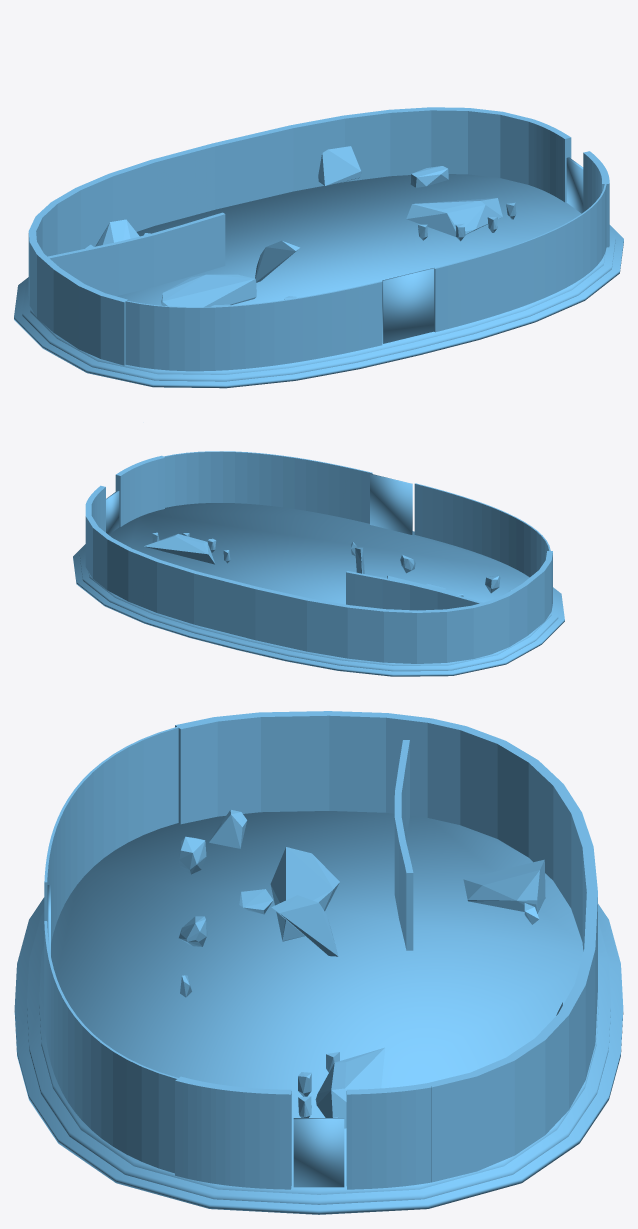
Rendered from Nocturne_PHYS.dae.
3 renders of one model, top to bottom at view 1: azimuth 30°, elevation 25°; view 2: azimuth 150°, elevation 25°; view 3: azimuth 270°, elevation 25°, orthographic. The views are drawn at different scales.
Parts seen in each view (by area): view 1: Nocturne_Floor_PHYS, Nocturne_Wall_N_PHYS, Nocturne_Glass_S_PHYS, Nocturne_Partition_PHYS, Nocturne_Wall_W_PHYS, Nocturne_Wall_E_PHYS, Nocturne_Door_S_PHYS, Nocturne_Sofa_PHYS, Nocturne_Bar_PHYS, Nocturne_Vanity_PHYS, Nocturne_Arc_Lamp_PHYS, Nocturne_Door_E_PHYS (+2 smaller); view 2: Nocturne_Floor_PHYS, Nocturne_Wall_N_PHYS, Nocturne_Glass_S_PHYS, Nocturne_Wall_W_PHYS, Nocturne_Partition_PHYS, Nocturne_Wall_E_PHYS, Nocturne_Door_S_PHYS, Nocturne_Bar_PHYS, Nocturne_Door_E_PHYS; view 3: Nocturne_Floor_PHYS, Nocturne_Wall_N_PHYS, Nocturne_Glass_S_PHYS, Nocturne_Wall_W_PHYS, Nocturne_Wall_E_PHYS, Nocturne_Door_E_PHYS, Nocturne_Sofa_PHYS, Nocturne_Partition_PHYS, Nocturne_Bed_PHYS, Nocturne_Bar_PHYS, Nocturne_Arc_Lamp_PHYS, Nocturne_Fireplace_PHYS (+1 smaller).
Boxes of the visible parts, x1,y1,x2,y2 form: Nocturne_Floor_PHYS: (14, 174, 623, 388); Nocturne_Wall_N_PHYS: (28, 107, 532, 304); Nocturne_Glass_S_PHYS: (125, 184, 606, 371); Nocturne_Partition_PHYS: (48, 212, 225, 295); Nocturne_Wall_W_PHYS: (29, 241, 127, 365); Nocturne_Wall_E_PHYS: (528, 119, 609, 247); Nocturne_Door_S_PHYS: (382, 268, 434, 343); Nocturne_Sofa_PHYS: (161, 274, 256, 306); Nocturne_Bar_PHYS: (406, 198, 502, 236); Nocturne_Vanity_PHYS: (318, 146, 361, 185); Nocturne_Arc_Lamp_PHYS: (255, 240, 299, 282); Nocturne_Door_E_PHYS: (566, 157, 583, 213); Nocturne_Floor_PHYS: (73, 503, 564, 676); Nocturne_Wall_N_PHYS: (85, 504, 491, 663); Nocturne_Glass_S_PHYS: (163, 451, 550, 577); Nocturne_Wall_W_PHYS: (488, 551, 552, 653); Nocturne_Partition_PHYS: (346, 571, 482, 610); Nocturne_Wall_E_PHYS: (86, 455, 164, 532); Nocturne_Door_S_PHYS: (370, 473, 412, 534); Nocturne_Bar_PHYS: (144, 534, 215, 564); Nocturne_Door_E_PHYS: (106, 490, 119, 534); Nocturne_Floor_PHYS: (14, 811, 623, 1214); Nocturne_Wall_N_PHYS: (427, 718, 597, 1182); Nocturne_Glass_S_PHYS: (44, 727, 178, 1173); Nocturne_Wall_W_PHYS: (175, 711, 431, 824); Nocturne_Wall_E_PHYS: (175, 1076, 431, 1189); Nocturne_Door_E_PHYS: (293, 1118, 344, 1187); Nocturne_Sofa_PHYS: (270, 847, 339, 941); Nocturne_Partition_PHYS: (394, 740, 413, 950); Nocturne_Bed_PHYS: (463, 859, 545, 913); Nocturne_Bar_PHYS: (315, 1047, 385, 1128); Nocturne_Arc_Lamp_PHYS: (271, 895, 338, 956); Nocturne_Fireplace_PHYS: (209, 809, 247, 848).
Bounding box in the file's own units: 27.44 × 17.44 × 6.03.
